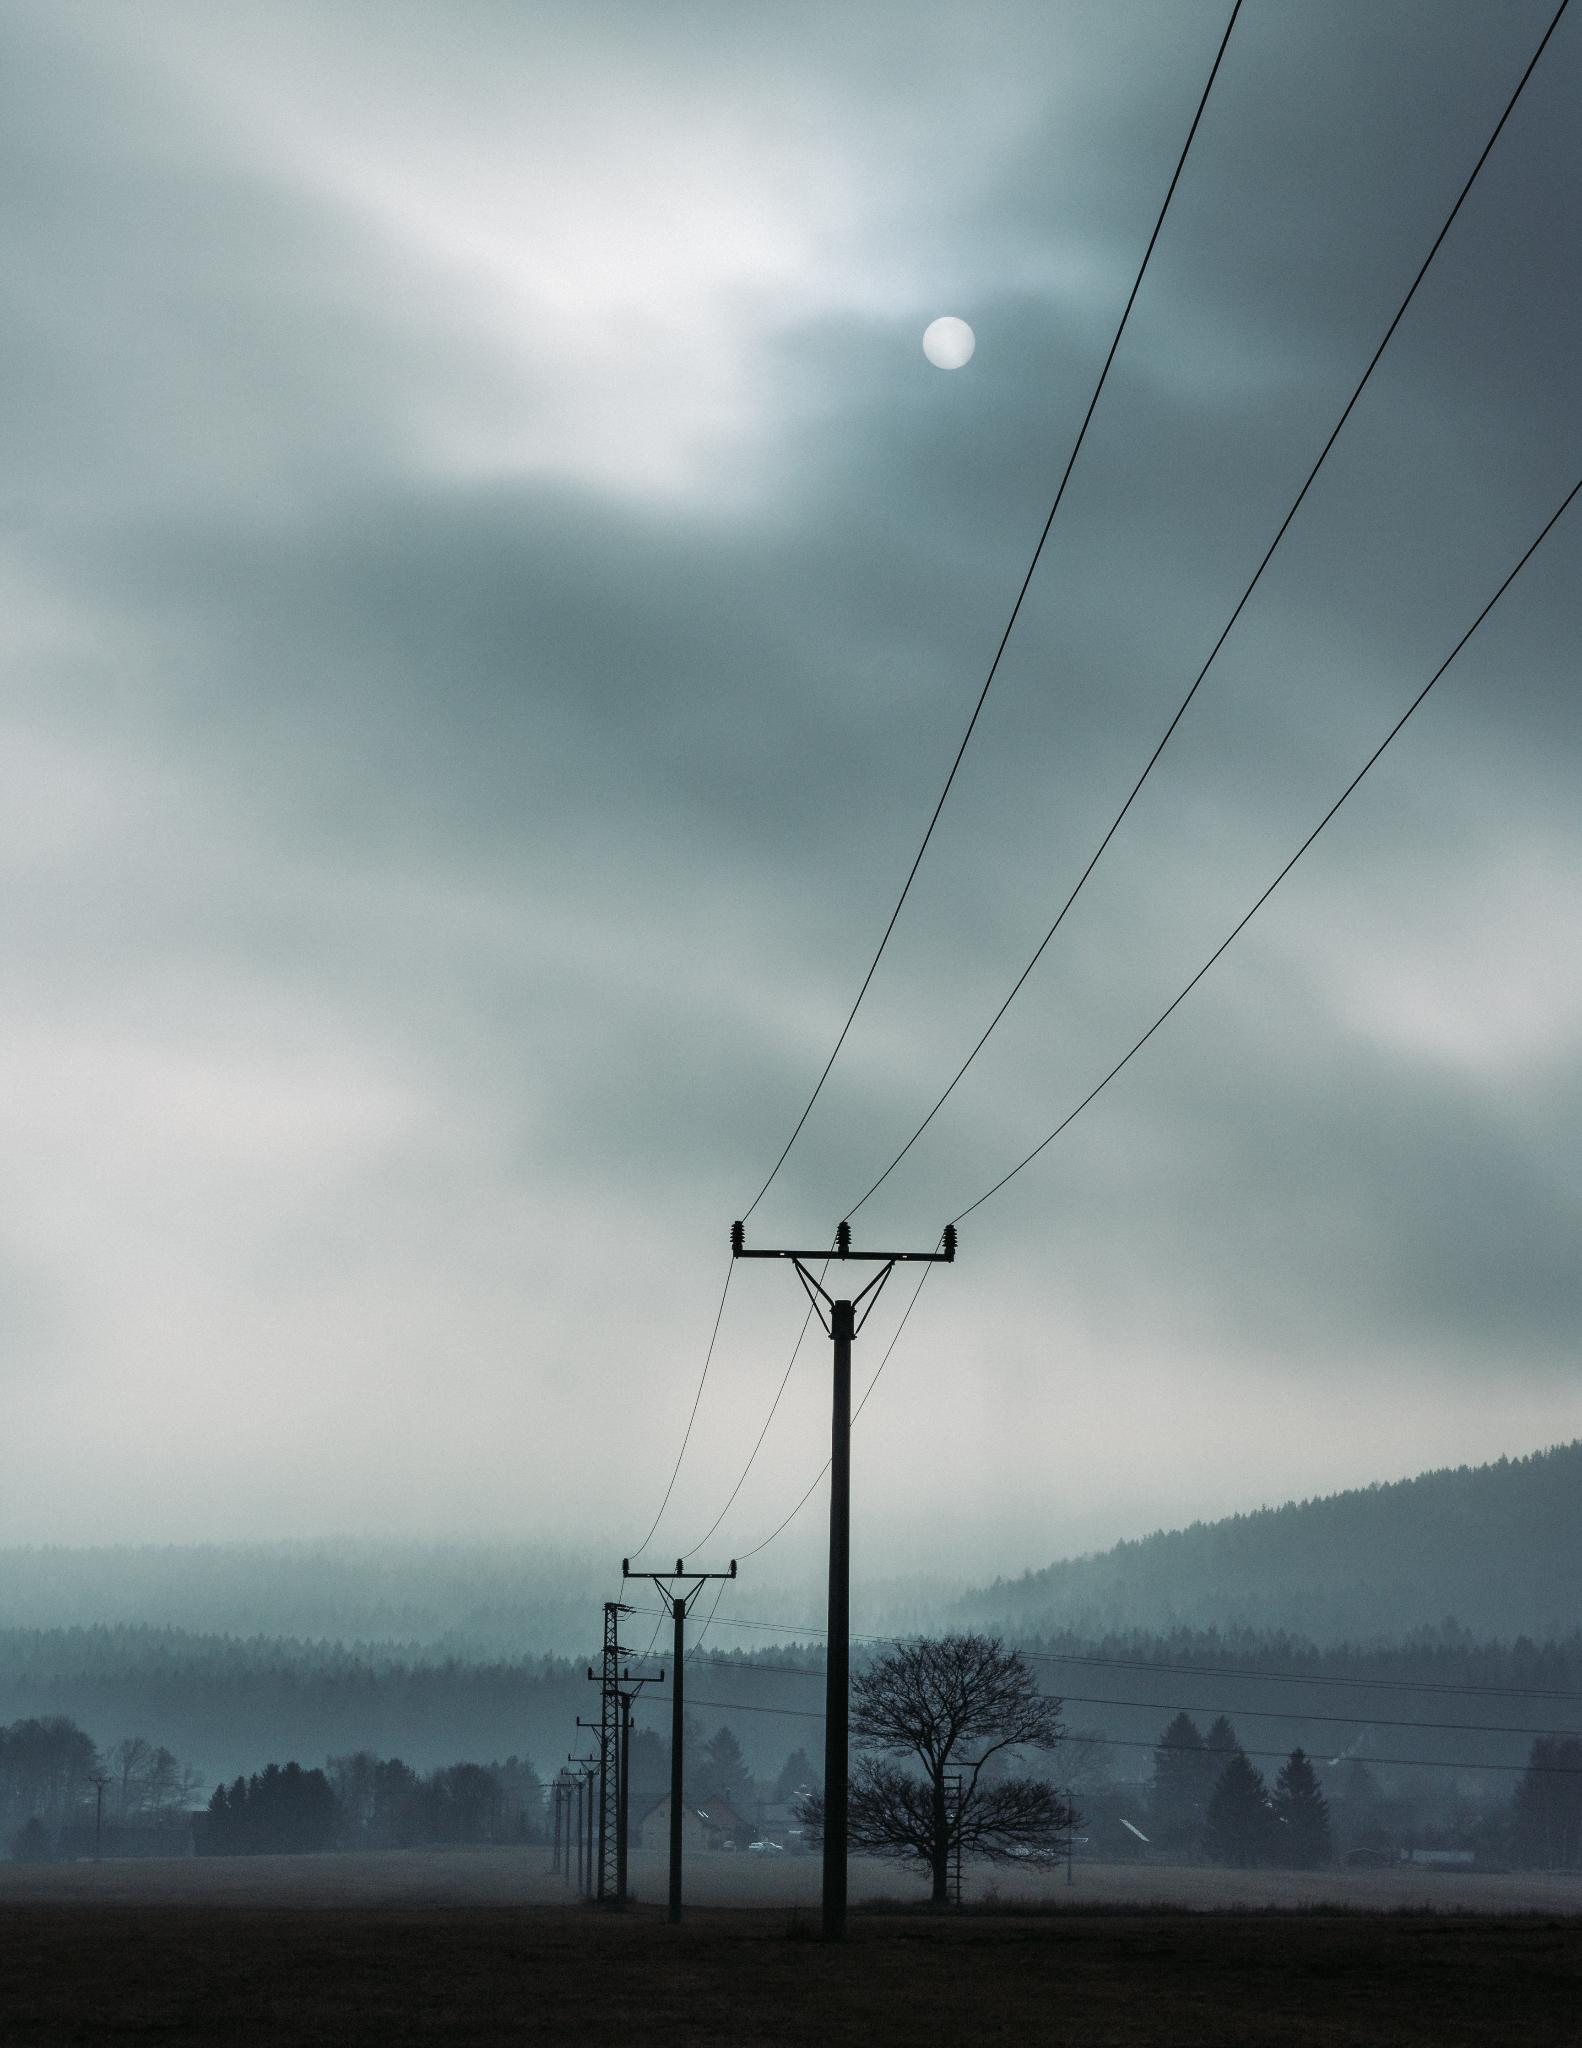cable tower: (701, 1168, 1002, 1962), (600, 1503, 769, 1963), (573, 1613, 673, 1980), (545, 1699, 630, 1958)
